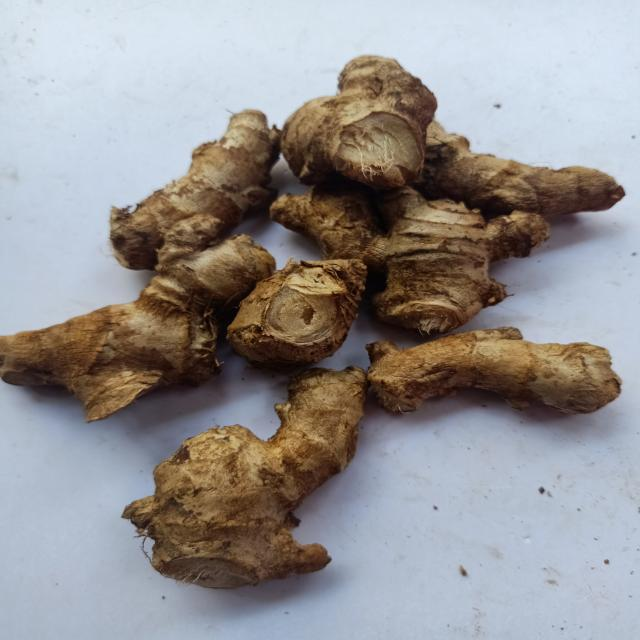Ginger: (0, 110, 279, 422), (121, 367, 369, 589), (374, 189, 550, 333), (366, 327, 622, 414), (280, 55, 437, 188), (414, 120, 626, 215), (270, 182, 388, 266)
